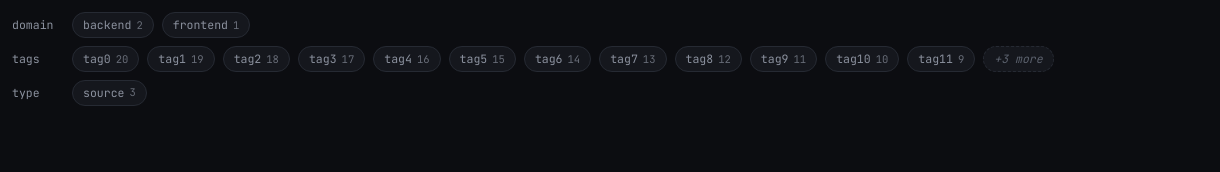
Test: FacetBar › caps the tag list and expands/collapses with the "more" toggle
Expected: the button "tag0 20" is shown, [72,46,139,72]
Expected: the button "tag11 9" is shown, [907,46,975,72]
Click the button "+3 more".
click(1018, 59)  # box [983,46,1054,72]
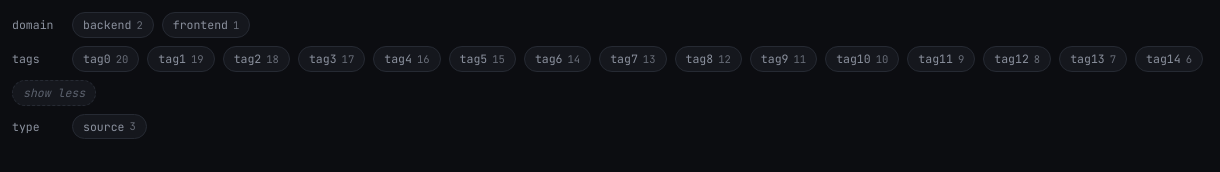
Expected: the button "tag14 6" is shown, [1135,46,1203,72]
Click the button "show less".
click(54, 93)  # box [12,80,96,106]
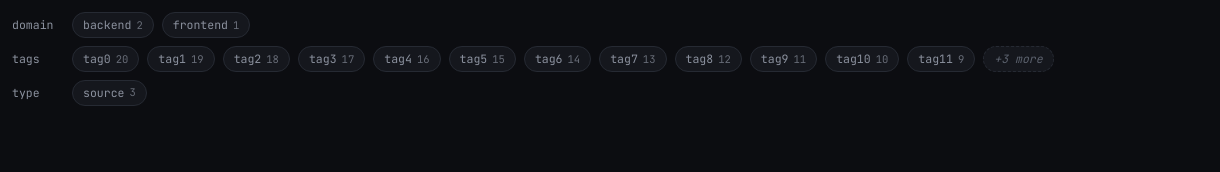
Expected: the button "tag12" is gone
